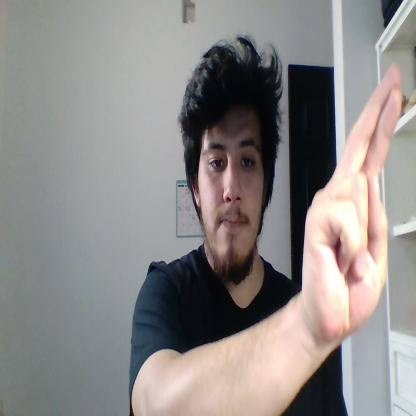R: (302, 66, 402, 344)
